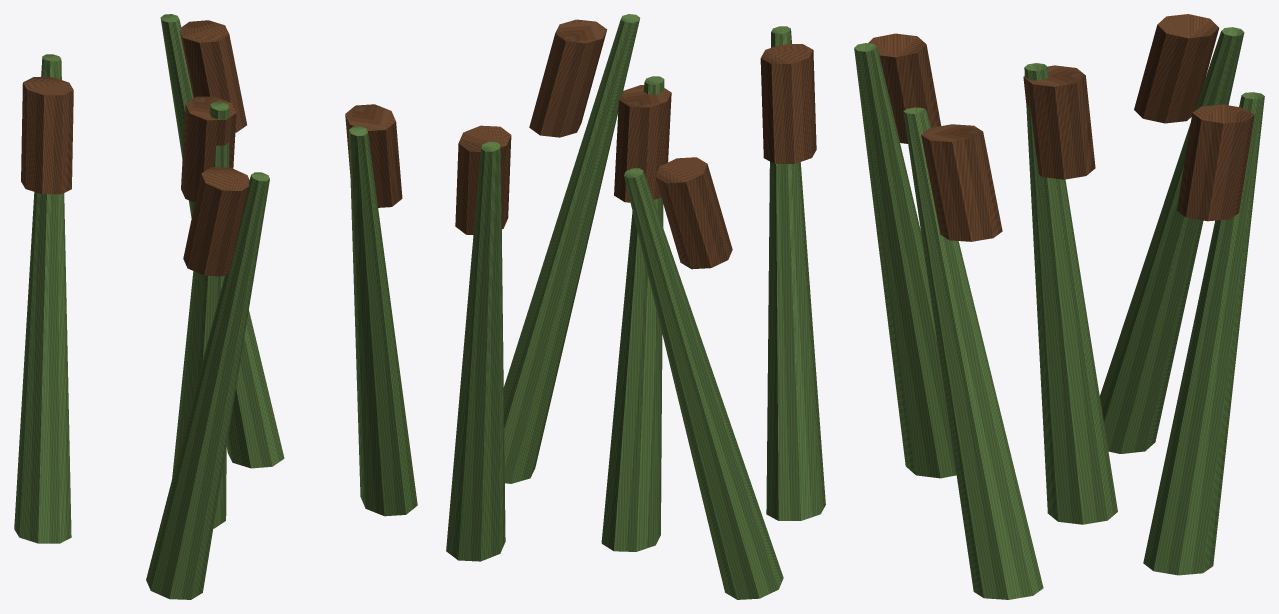
File: reeds.glb
3 views of the same model, side by side, from view 1: azimuth 30°, elevation 25°; view 2: azimuth 150°, elevation 25°; view 3: azimuth 270°, elevation 25° (orthographic). The views are drawn at different scales.
Parts seen in each view (by area): view 1: Cone; view 2: Cone; view 3: Cone.
Part boxes in pixels (x1,y1,x2,y2): Cone: [14, 14, 417, 599]; Cone: [446, 14, 825, 599]; Cone: [854, 14, 1264, 599].
Bounding box in the file's own units: 0.45 × 0.54 × 0.45.
1 material, 1 textured.
